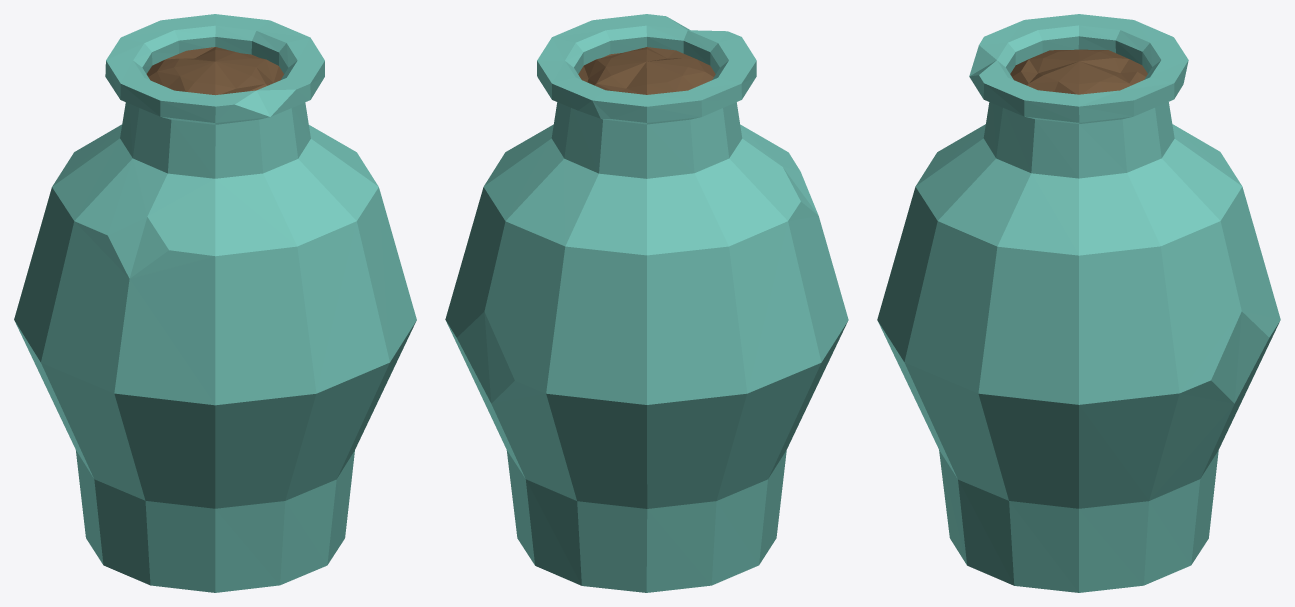
Rendered from SFHW_Vassel_009.fbx.
3 renders of one model, left to right at view 1: azimuth 30°, elevation 25°; view 2: azimuth 150°, elevation 25°; view 3: azimuth 270°, elevation 25°, orthographic.
Visible parts, largest first — view 1: SFHW_Vassel_009; view 2: SFHW_Vassel_009; view 3: SFHW_Vassel_009.
Boxes of the visible parts, bbox=[...] form: SFHW_Vassel_009: bbox=[14, 14, 416, 592]; SFHW_Vassel_009: bbox=[445, 14, 848, 592]; SFHW_Vassel_009: bbox=[877, 14, 1280, 592].
Size of the model in its own units: 54.45 by 72.33 by 54.48.
